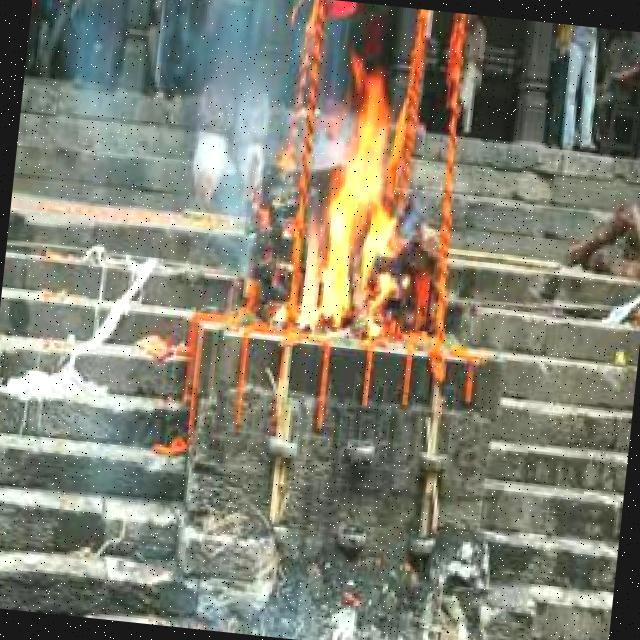Fire: (289, 77, 420, 343)
